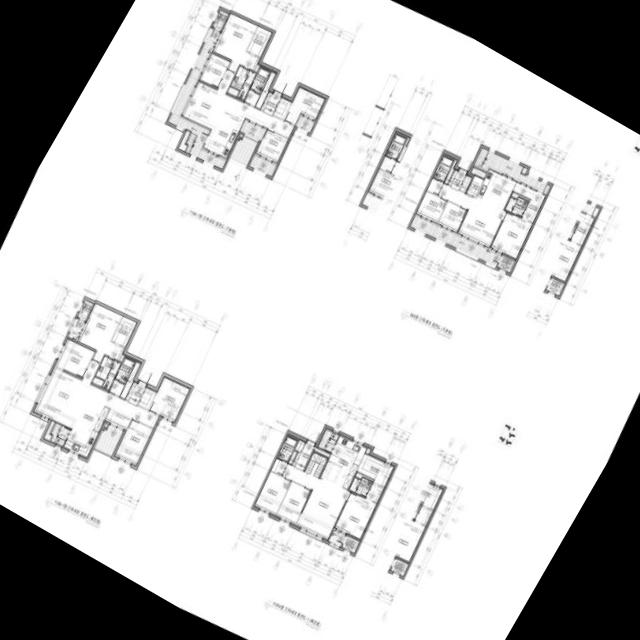background: (0, 0, 640, 640)
space_balconi: (168, 28, 225, 168), (410, 216, 501, 266), (474, 147, 550, 193), (229, 136, 257, 165), (94, 426, 122, 455), (249, 155, 276, 176), (317, 429, 338, 453), (50, 422, 70, 446), (241, 121, 263, 140), (68, 318, 84, 340), (296, 116, 314, 132), (328, 530, 345, 546)
space_bedroom: (213, 13, 259, 73), (78, 303, 124, 363), (335, 483, 384, 539), (491, 212, 532, 258), (149, 377, 190, 421), (115, 419, 153, 465), (254, 471, 291, 515), (284, 87, 325, 125), (55, 339, 94, 377), (276, 481, 310, 524), (256, 129, 288, 163), (199, 53, 229, 87), (416, 191, 447, 222), (438, 201, 466, 231)
space_dressroom: (513, 182, 545, 223), (357, 454, 394, 487), (111, 316, 137, 347), (247, 26, 272, 57)
space_front: (292, 443, 314, 471), (261, 92, 281, 116), (125, 382, 145, 406), (448, 170, 466, 190)
space_kitchen: (64, 398, 109, 457), (320, 435, 366, 489), (203, 108, 244, 158), (476, 169, 516, 210)
space_living_room: (34, 360, 159, 428), (180, 69, 294, 138), (282, 464, 349, 539), (438, 184, 505, 247)
space_other: (255, 72, 276, 109), (120, 362, 141, 398), (304, 452, 327, 478), (105, 408, 131, 430), (273, 97, 292, 119), (138, 388, 156, 409), (466, 175, 483, 197), (444, 159, 456, 183), (427, 178, 443, 195), (271, 458, 287, 475), (178, 130, 190, 151), (244, 90, 259, 106), (109, 380, 124, 396), (43, 420, 54, 441), (460, 175, 471, 192), (471, 167, 486, 178), (355, 472, 373, 481), (314, 447, 330, 457), (511, 192, 529, 200), (295, 439, 305, 452), (227, 87, 239, 96), (288, 451, 296, 464), (254, 63, 260, 72), (119, 354, 124, 362), (365, 448, 370, 454), (104, 423, 108, 427), (239, 134, 243, 137)
space_outdoor_room: (341, 535, 359, 553), (77, 300, 93, 320), (212, 10, 228, 30), (497, 255, 515, 272)
space_toilet: (92, 356, 120, 389), (231, 66, 255, 100), (433, 156, 453, 182), (277, 436, 297, 462), (115, 357, 135, 383), (250, 67, 270, 93), (349, 477, 372, 497), (505, 197, 528, 216)
